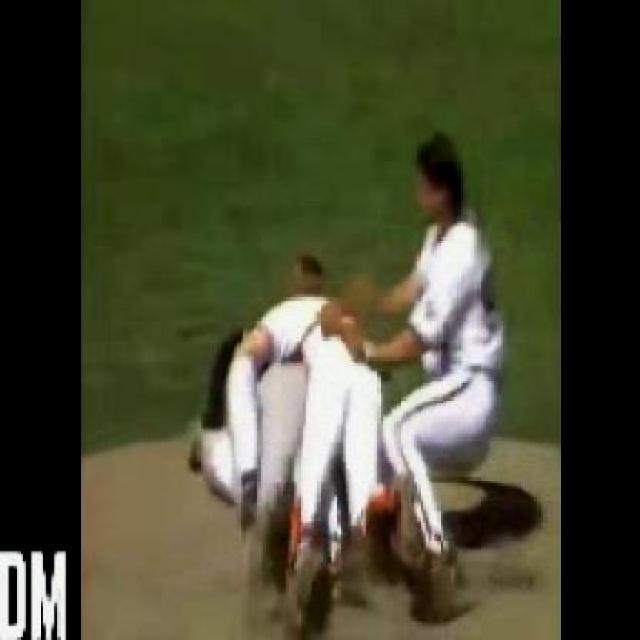fight: (186, 134, 503, 637)
